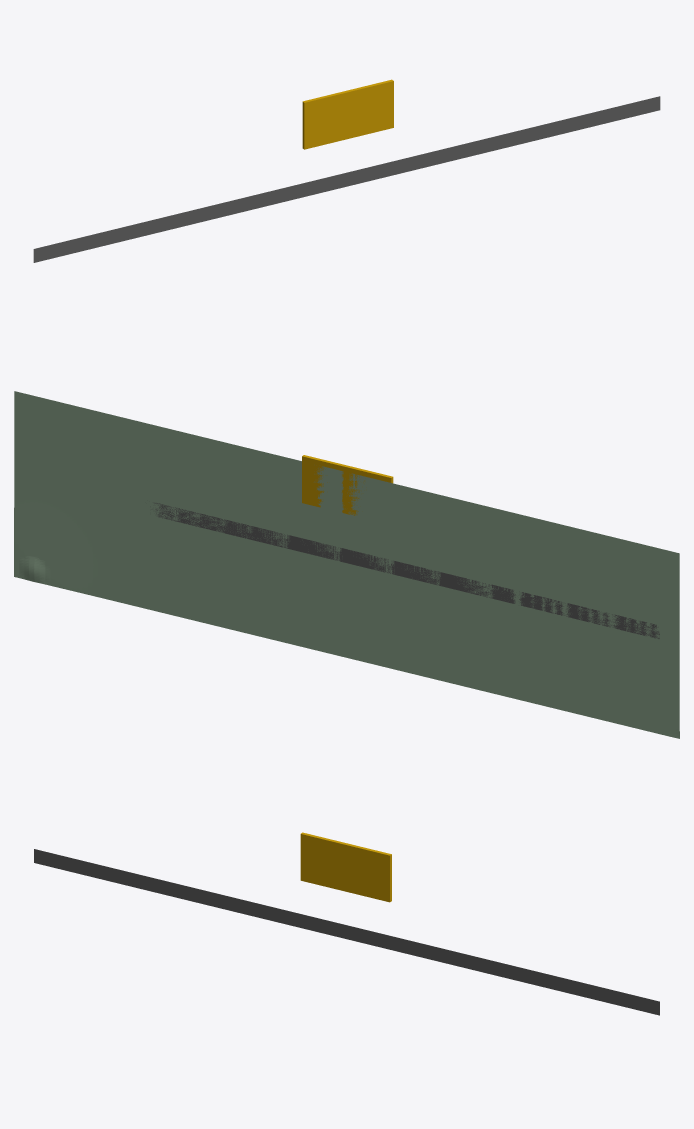
The model's file is final_airport_design.glb.
3 renders of one model, top to bottom at view 1: azimuth 30°, elevation 25°; view 2: azimuth 150°, elevation 25°; view 3: azimuth 330°, elevation 25°, orthographic.
Parts seen in each view (by area): view 1: world; view 2: world; view 3: world.
Part boxes in pixels (x1,y1,x2,y2): world: (33,79,660,262); world: (14,391,679,738); world: (34,832,659,1015).
Size of the model in its own units: 2977 by 815 by 22.87.
